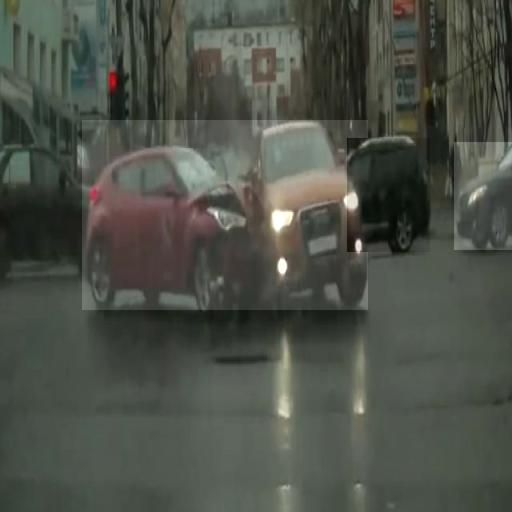小汽车: (347, 138, 430, 252), (454, 142, 512, 250)
小汽车撞小汽车: (82, 120, 368, 310)
